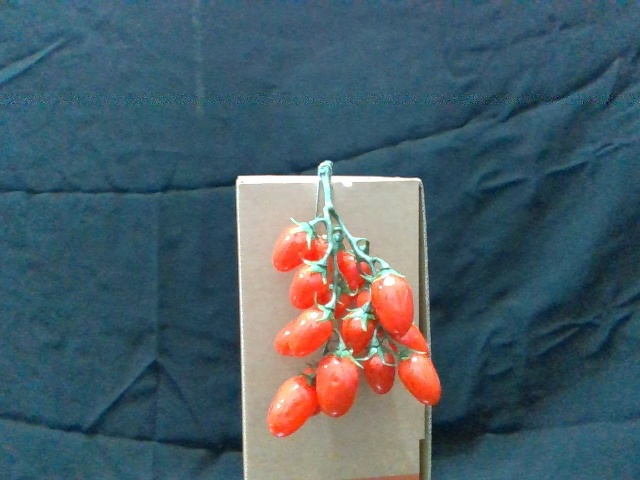tomato: (266, 373, 319, 439), (372, 269, 417, 337), (318, 353, 361, 419), (398, 352, 443, 403), (276, 221, 318, 273), (293, 304, 336, 354), (360, 341, 398, 395), (290, 261, 330, 305), (344, 304, 376, 353)
